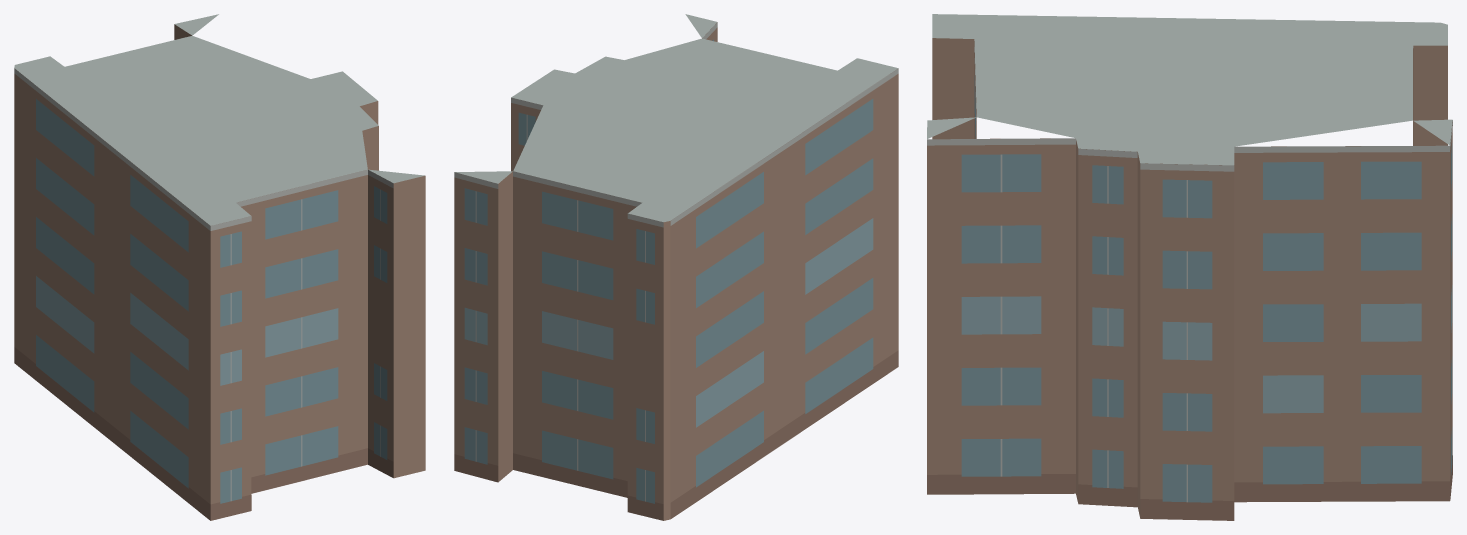
The model's file is survey-upis-32566053.glb.
3 renders of one model, left to right at view 1: azimuth 30°, elevation 25°; view 2: azimuth 150°, elevation 25°; view 3: azimuth 270°, elevation 25°, orthographic. The views are drawn at different scales.
Parts seen in each view (by area): view 1: survey-upis-32566053.tmp; view 2: survey-upis-32566053.tmp; view 3: survey-upis-32566053.tmp.
Part boxes in pixels (x1,y1,x2,y2): survey-upis-32566053.tmp: (14, 14, 425, 520); survey-upis-32566053.tmp: (454, 14, 898, 520); survey-upis-32566053.tmp: (927, 14, 1452, 520).
Bounding box in the file's own units: 12.52 × 13.7 × 18.36.
